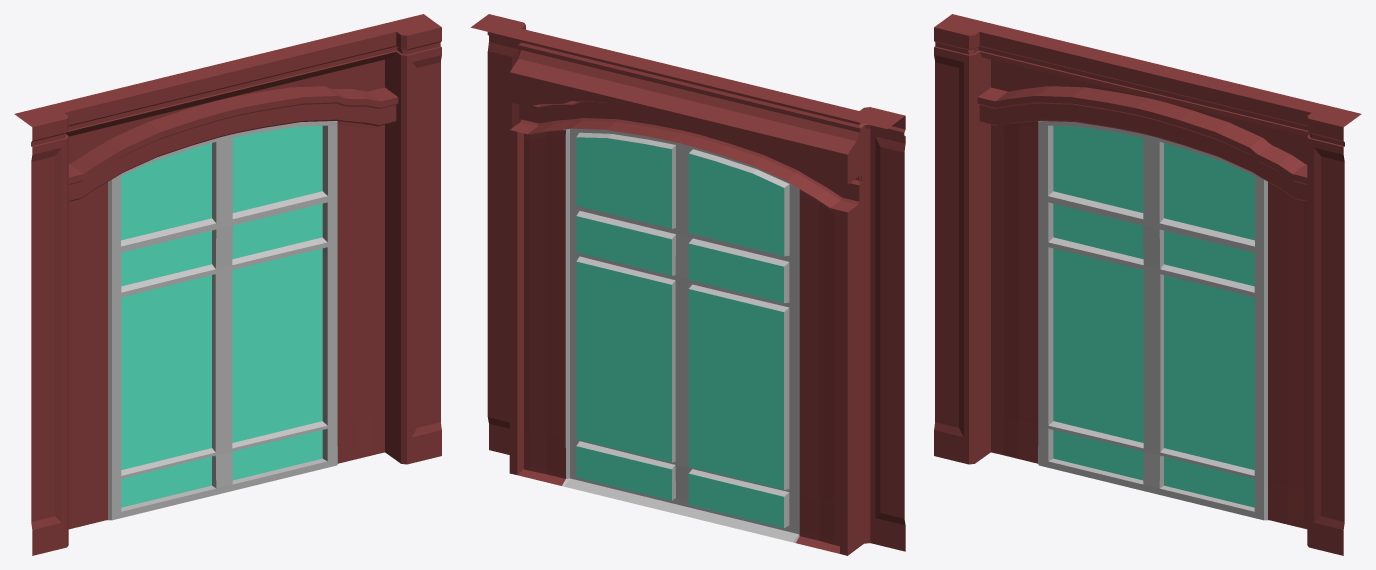
The model's file is O_V_FacadeVitrine1Door_Down.fbx.
The picture shows the model from 3 angles, left to right: view 1: azimuth 30°, elevation 25°; view 2: azimuth 150°, elevation 25°; view 3: azimuth 330°, elevation 25°; orthographic projection.
Parts seen in each view (by area): view 1: O_V_FacadeVitrine1Door_Down; view 2: O_V_FacadeVitrine1Door_Down; view 3: O_V_FacadeVitrine1Door_Down.
Part boxes in pixels (<box>): O_V_FacadeVitrine1Door_Down: <box>14,14,441,555</box>; O_V_FacadeVitrine1Door_Down: <box>470,14,905,555</box>; O_V_FacadeVitrine1Door_Down: <box>934,14,1361,555</box>.
Bounding box in the file's own units: 6.5 × 6.5 × 0.5013.
